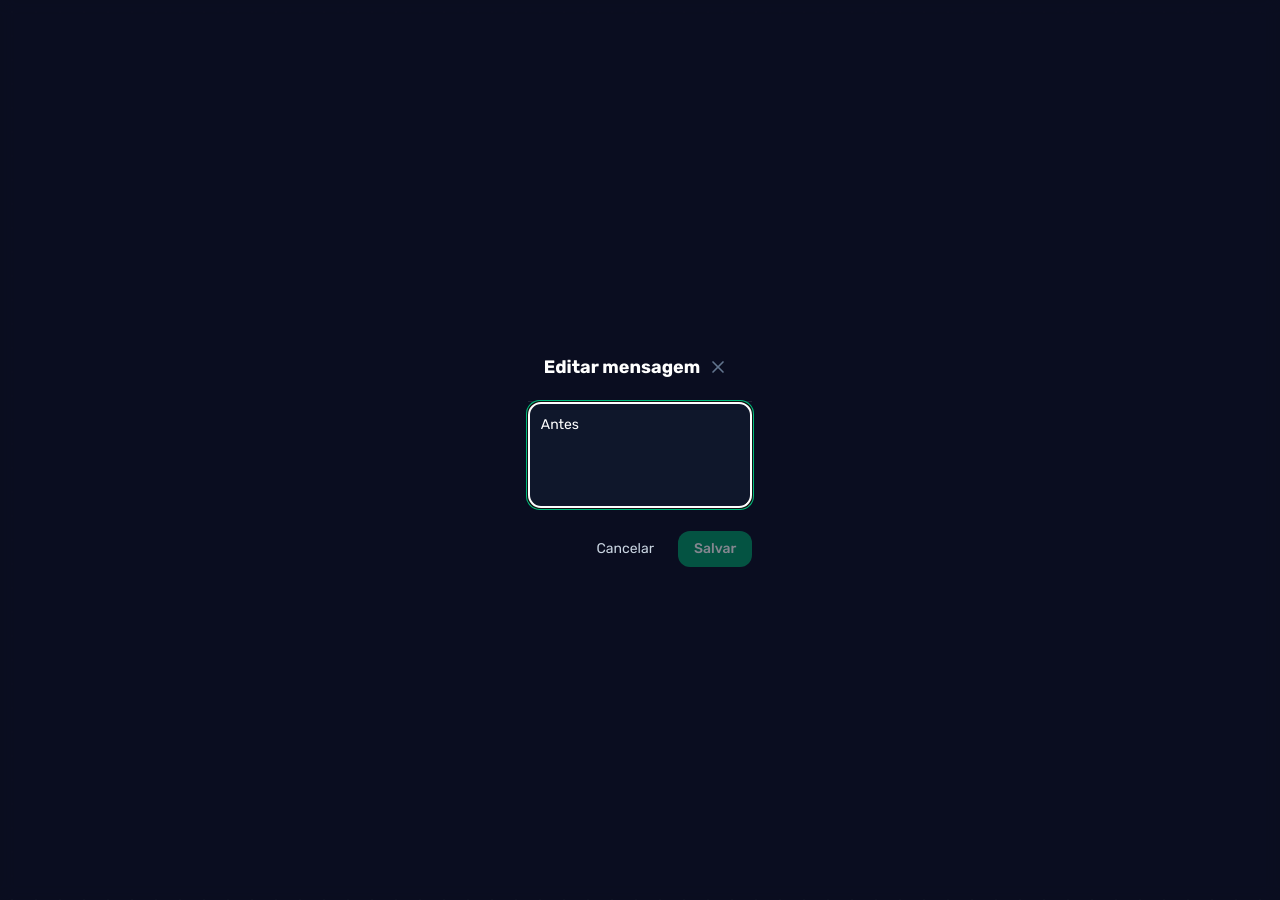
Test: edit message modal › preserves the draft and explains a rejected edit
Replace the text in the text box with "Correção". click: (640, 455)
box: [528,402,752,508]
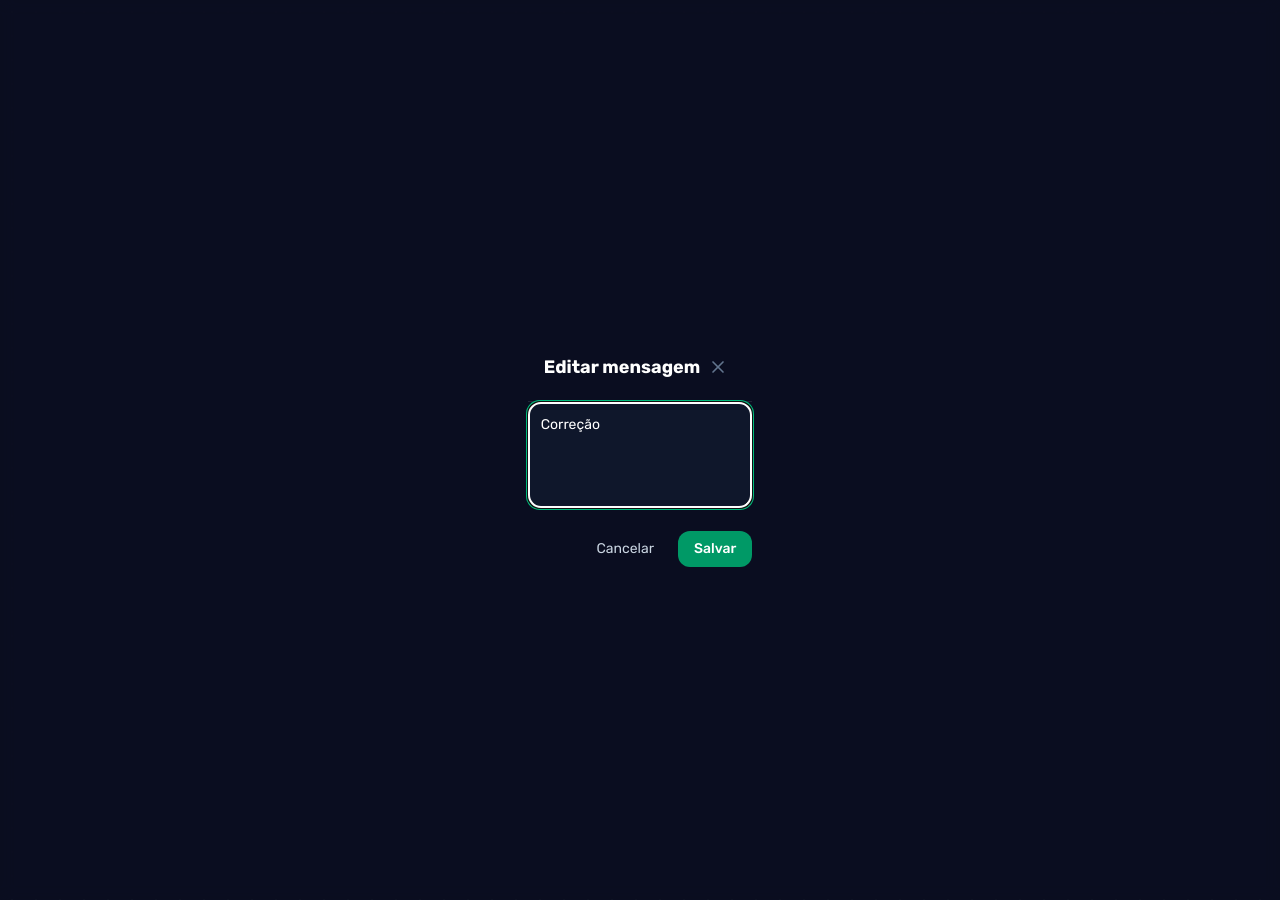
Click the button "Salvar". click: click(715, 549)
box: [678,531,752,567]
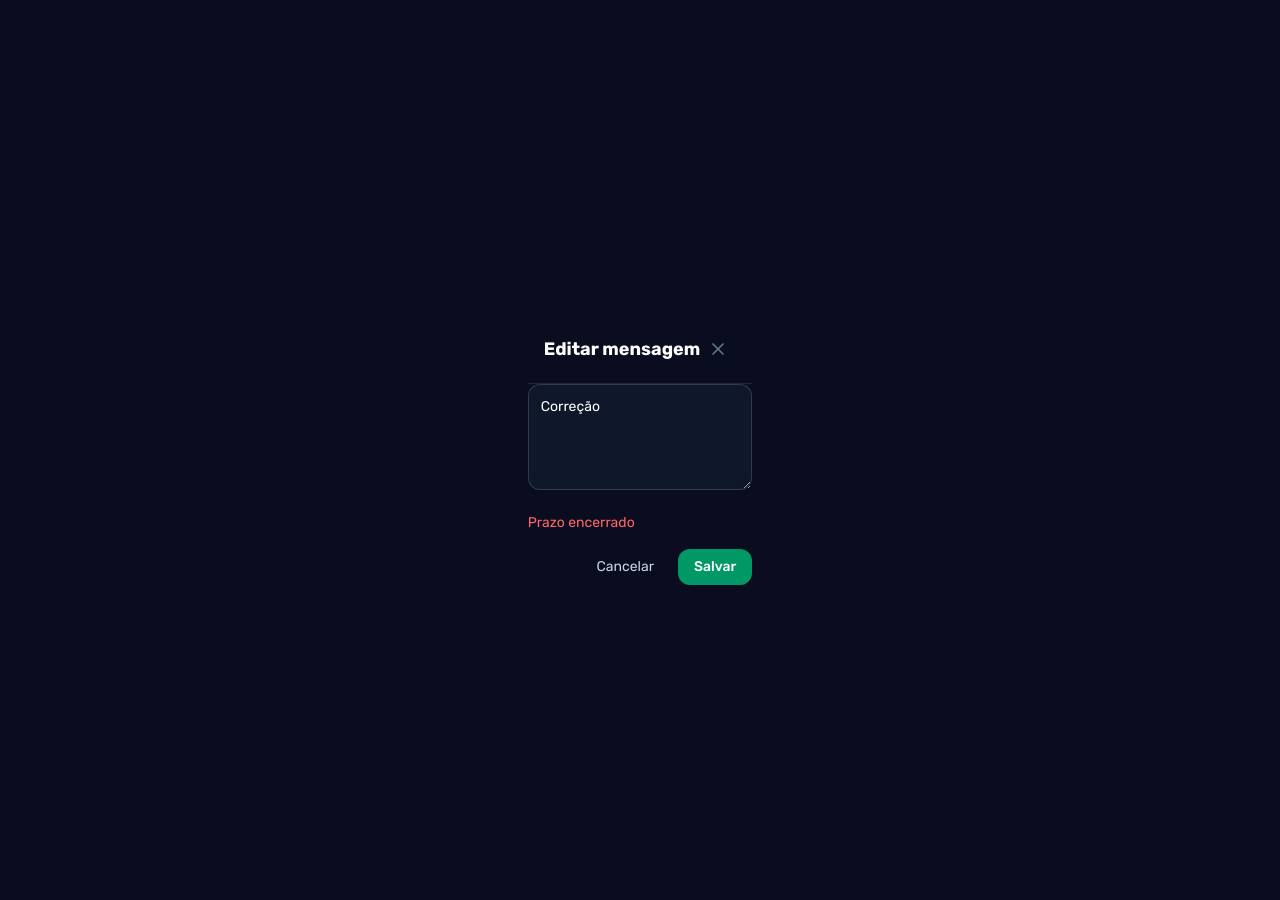
Expected: the message reads "Prazo encerrado", [528,514,635,531]
